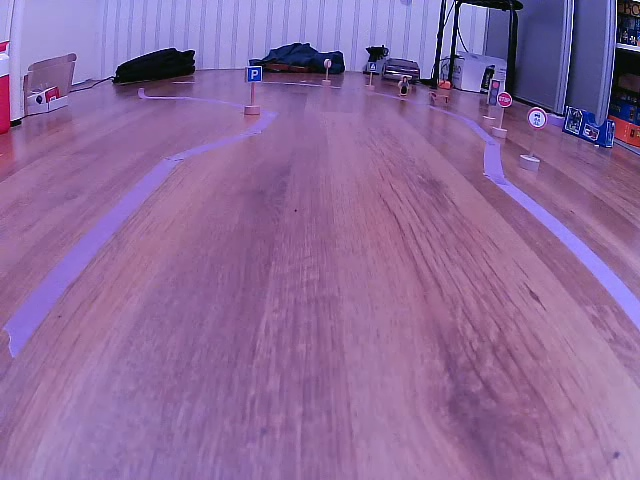fietspad: (526, 107, 546, 130)
parkeerbord: (245, 66, 262, 84)
roodlicht: (490, 78, 499, 105)
stopbord: (498, 91, 512, 109)
